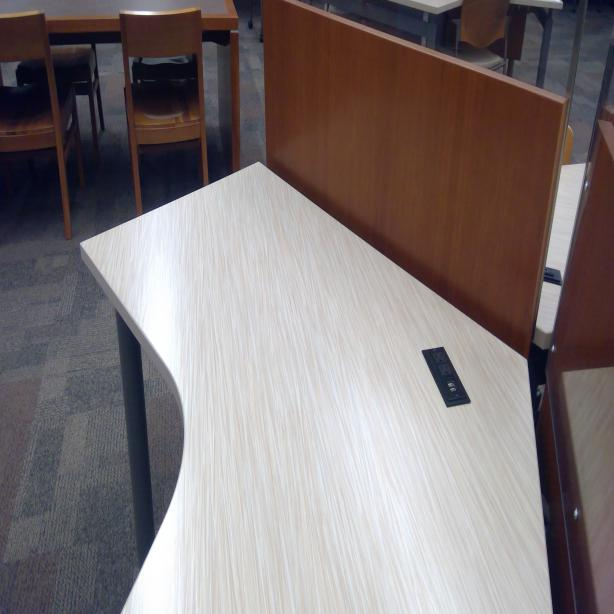typeb: (433, 346, 444, 365), (439, 363, 452, 376)
